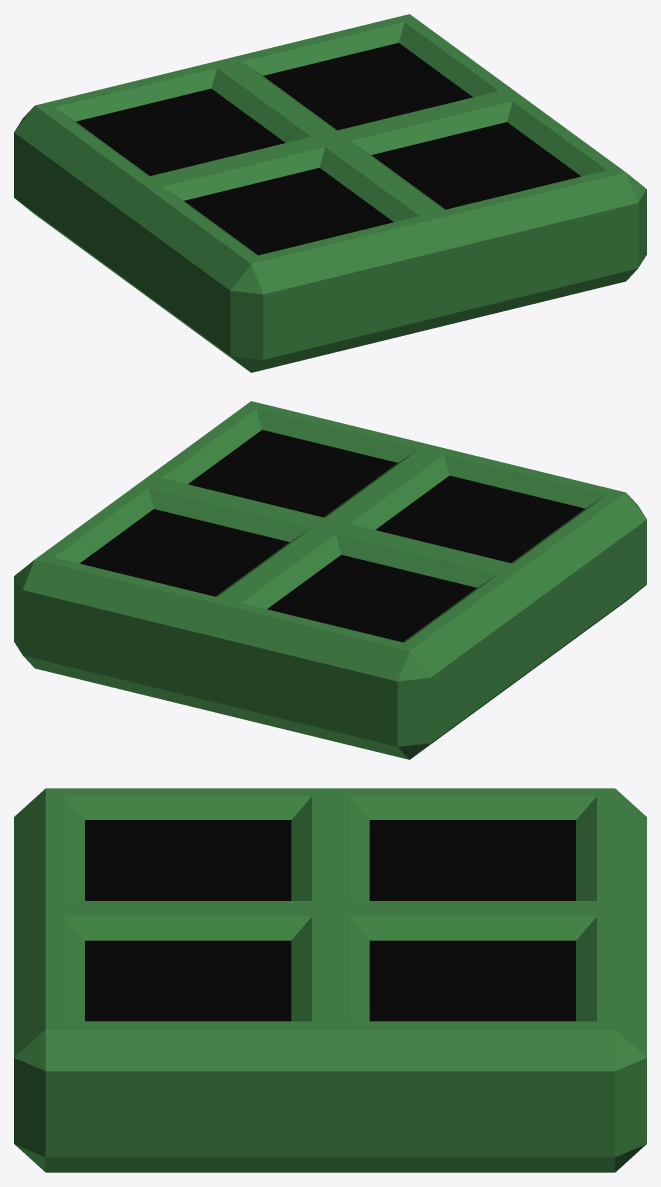
The model's file is m_dec_dung_trapSpikes_base.fbx.
The picture shows the model from 3 angles, top to bottom: view 1: azimuth 30°, elevation 25°; view 2: azimuth 150°, elevation 25°; view 3: azimuth 270°, elevation 25°; orthographic projection. The views are drawn at different scales.
Parts seen in each view (by area): view 1: m_dec_dung_trapSpikes_base; view 2: m_dec_dung_trapSpikes_base; view 3: m_dec_dung_trapSpikes_base.
Part boxes in pixels (box(x1,y1,x2,y2)): m_dec_dung_trapSpikes_base: box(14, 14, 646, 372); m_dec_dung_trapSpikes_base: box(14, 401, 646, 759); m_dec_dung_trapSpikes_base: box(14, 788, 646, 1172).
Size of the model in its own units: 2 by 0.5 by 2.
